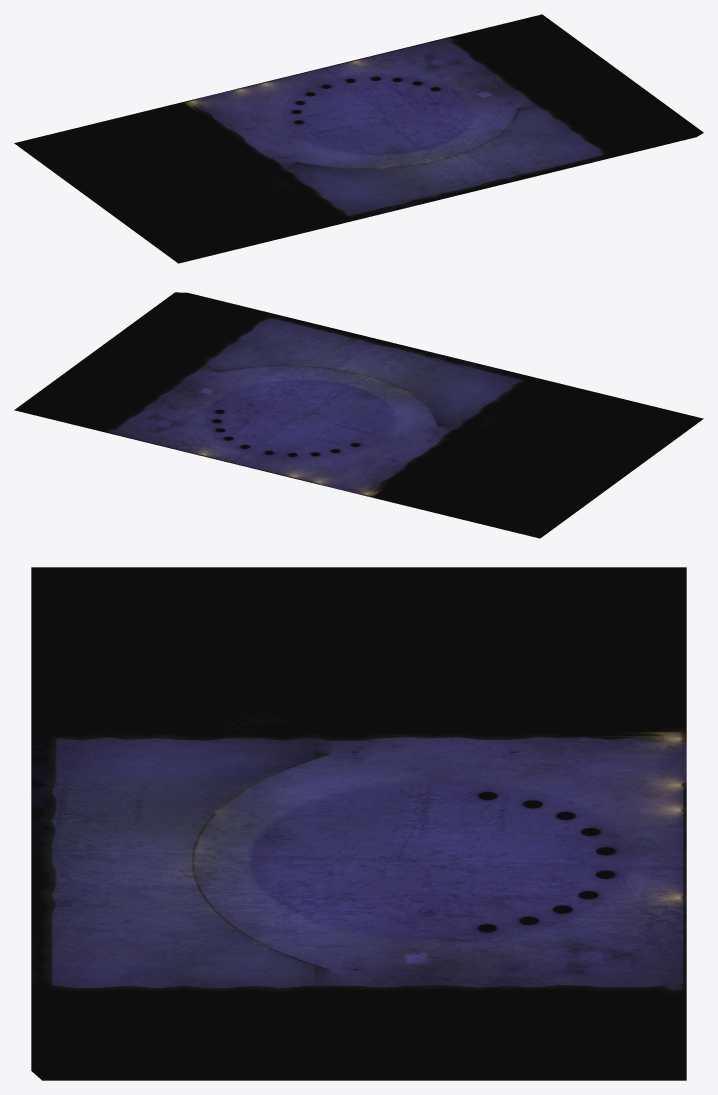
File: ey_verse_floor.glb
3 views of the same model, one above another, from view 1: azimuth 30°, elevation 25°; view 2: azimuth 150°, elevation 25°; view 3: azimuth 270°, elevation 25° (orthographic). The views are drawn at different scales.
Parts seen in each view (by area): view 1: ey_verse_floor; view 2: ey_verse_floor; view 3: ey_verse_floor.
Part boxes in pixels (left/top/right/bottom): ey_verse_floor: left=14, top=14, right=703, bottom=263; ey_verse_floor: left=14, top=292, right=703, bottom=538; ey_verse_floor: left=31, top=567, right=686, bottom=1080.
Bounding box in the file's own units: 23.1 × 2.05e-06 × 12.45.
Materials: 1 (1 with a texture image).
